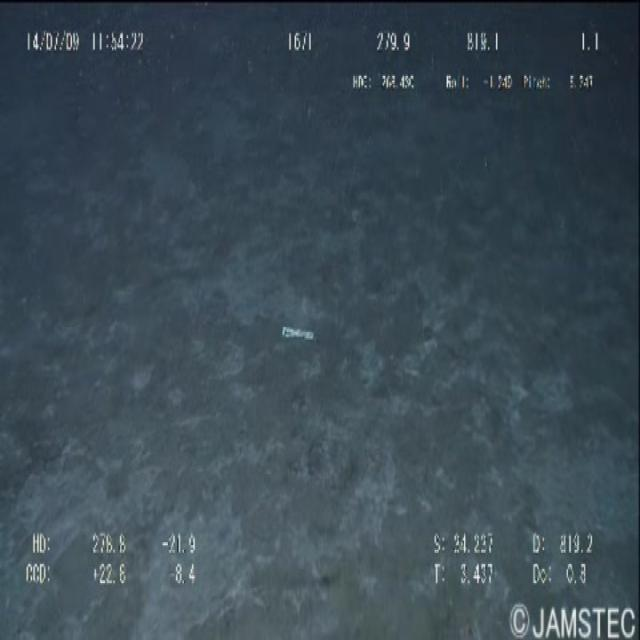Litter: (280, 300, 320, 362)
